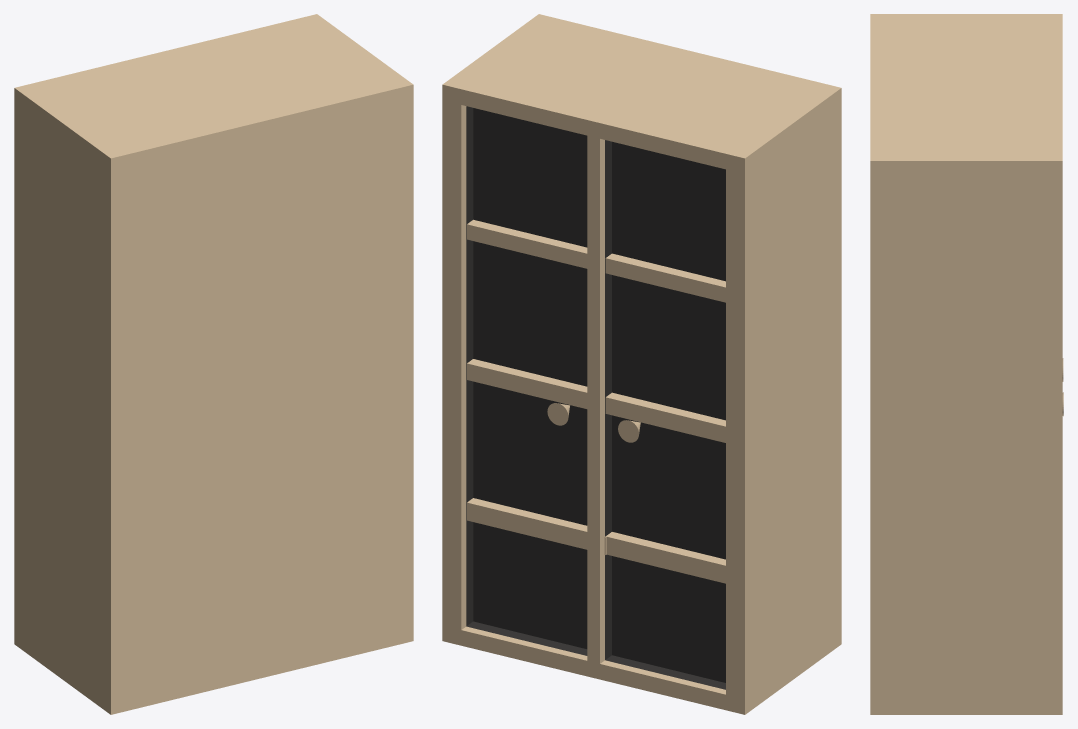
The model's file is Closet_000.glb.
3 renders of one model, left to right at view 1: azimuth 30°, elevation 25°; view 2: azimuth 150°, elevation 25°; view 3: azimuth 270°, elevation 25°, orthographic.
Visible parts, largest first — view 1: Closet; view 2: Closet, LeftDoor, RightDoor; view 3: Closet.
Boxes of the visible parts, left/top/right/bottom form: Closet: left=14, top=14, right=413, bottom=714; Closet: left=442, top=14, right=841, bottom=714; LeftDoor: left=466, top=106, right=587, bottom=655; RightDoor: left=605, top=140, right=725, bottom=689; Closet: left=870, top=14, right=1062, bottom=714.
Size of the model in its own units: 1.13 by 1.98 by 0.6274.
